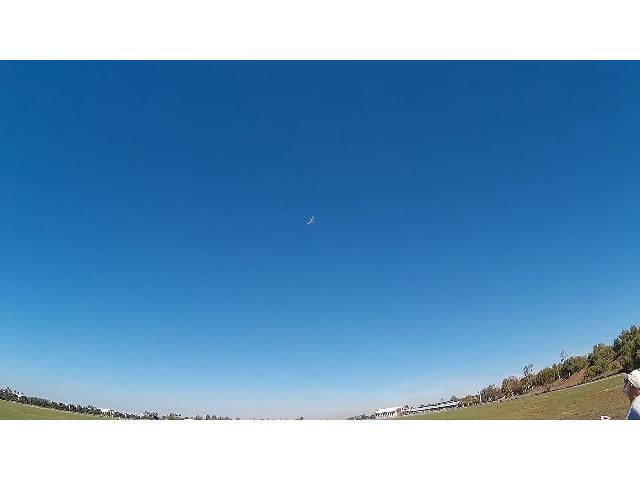Anti-Drone: (308, 216, 314, 223)
